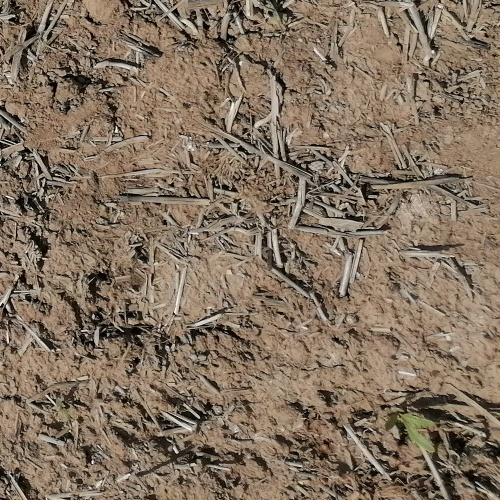beet: (385, 412, 436, 454)
